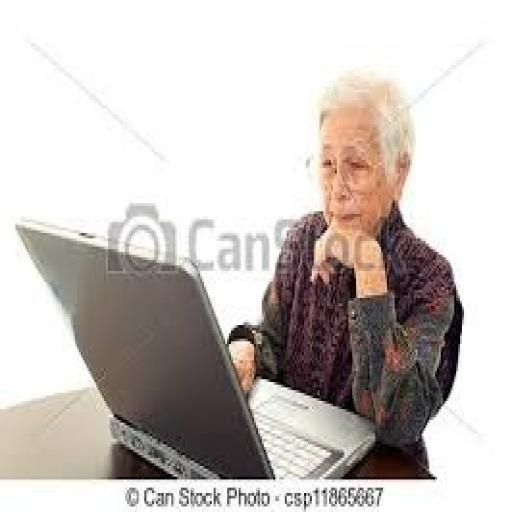using_laptop: (14, 214, 378, 480)
